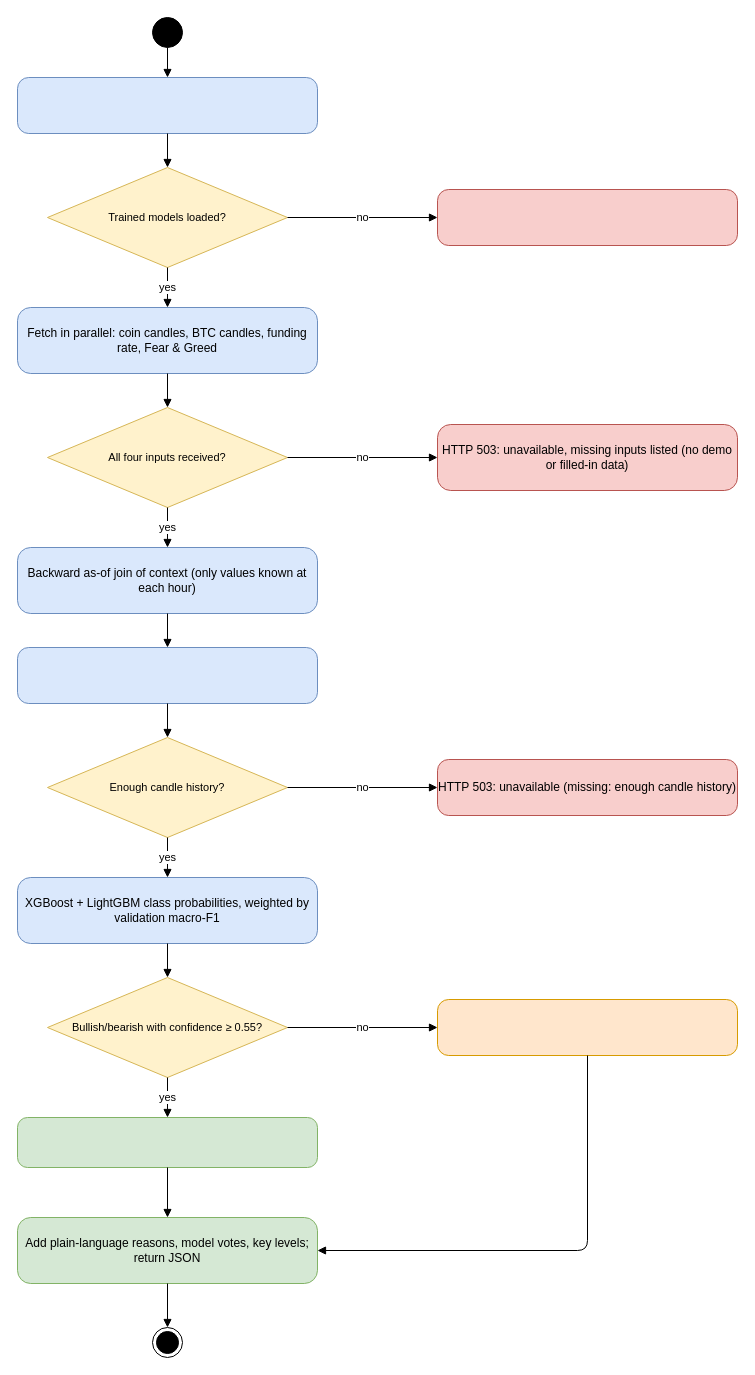
Some shapes in this 755 by 1375 pixel diagram are drawn without their labels. The shapes that lost their labels are listed below. From the top down, each one's centre as x and y in pixels, then its label:
At point 167,105: "Signal request: GET /api/signals/{symbol}".
At point 587,217: "HTTP 503: signal unavailable (missing: trained AI model)".
At point 167,675: "Compute 18 features; drop incomplete rows".
At point 587,1027: "Signal = neutral (weak call not shown as direction)".
At point 167,1142: "Signal = bullish or bearish".
